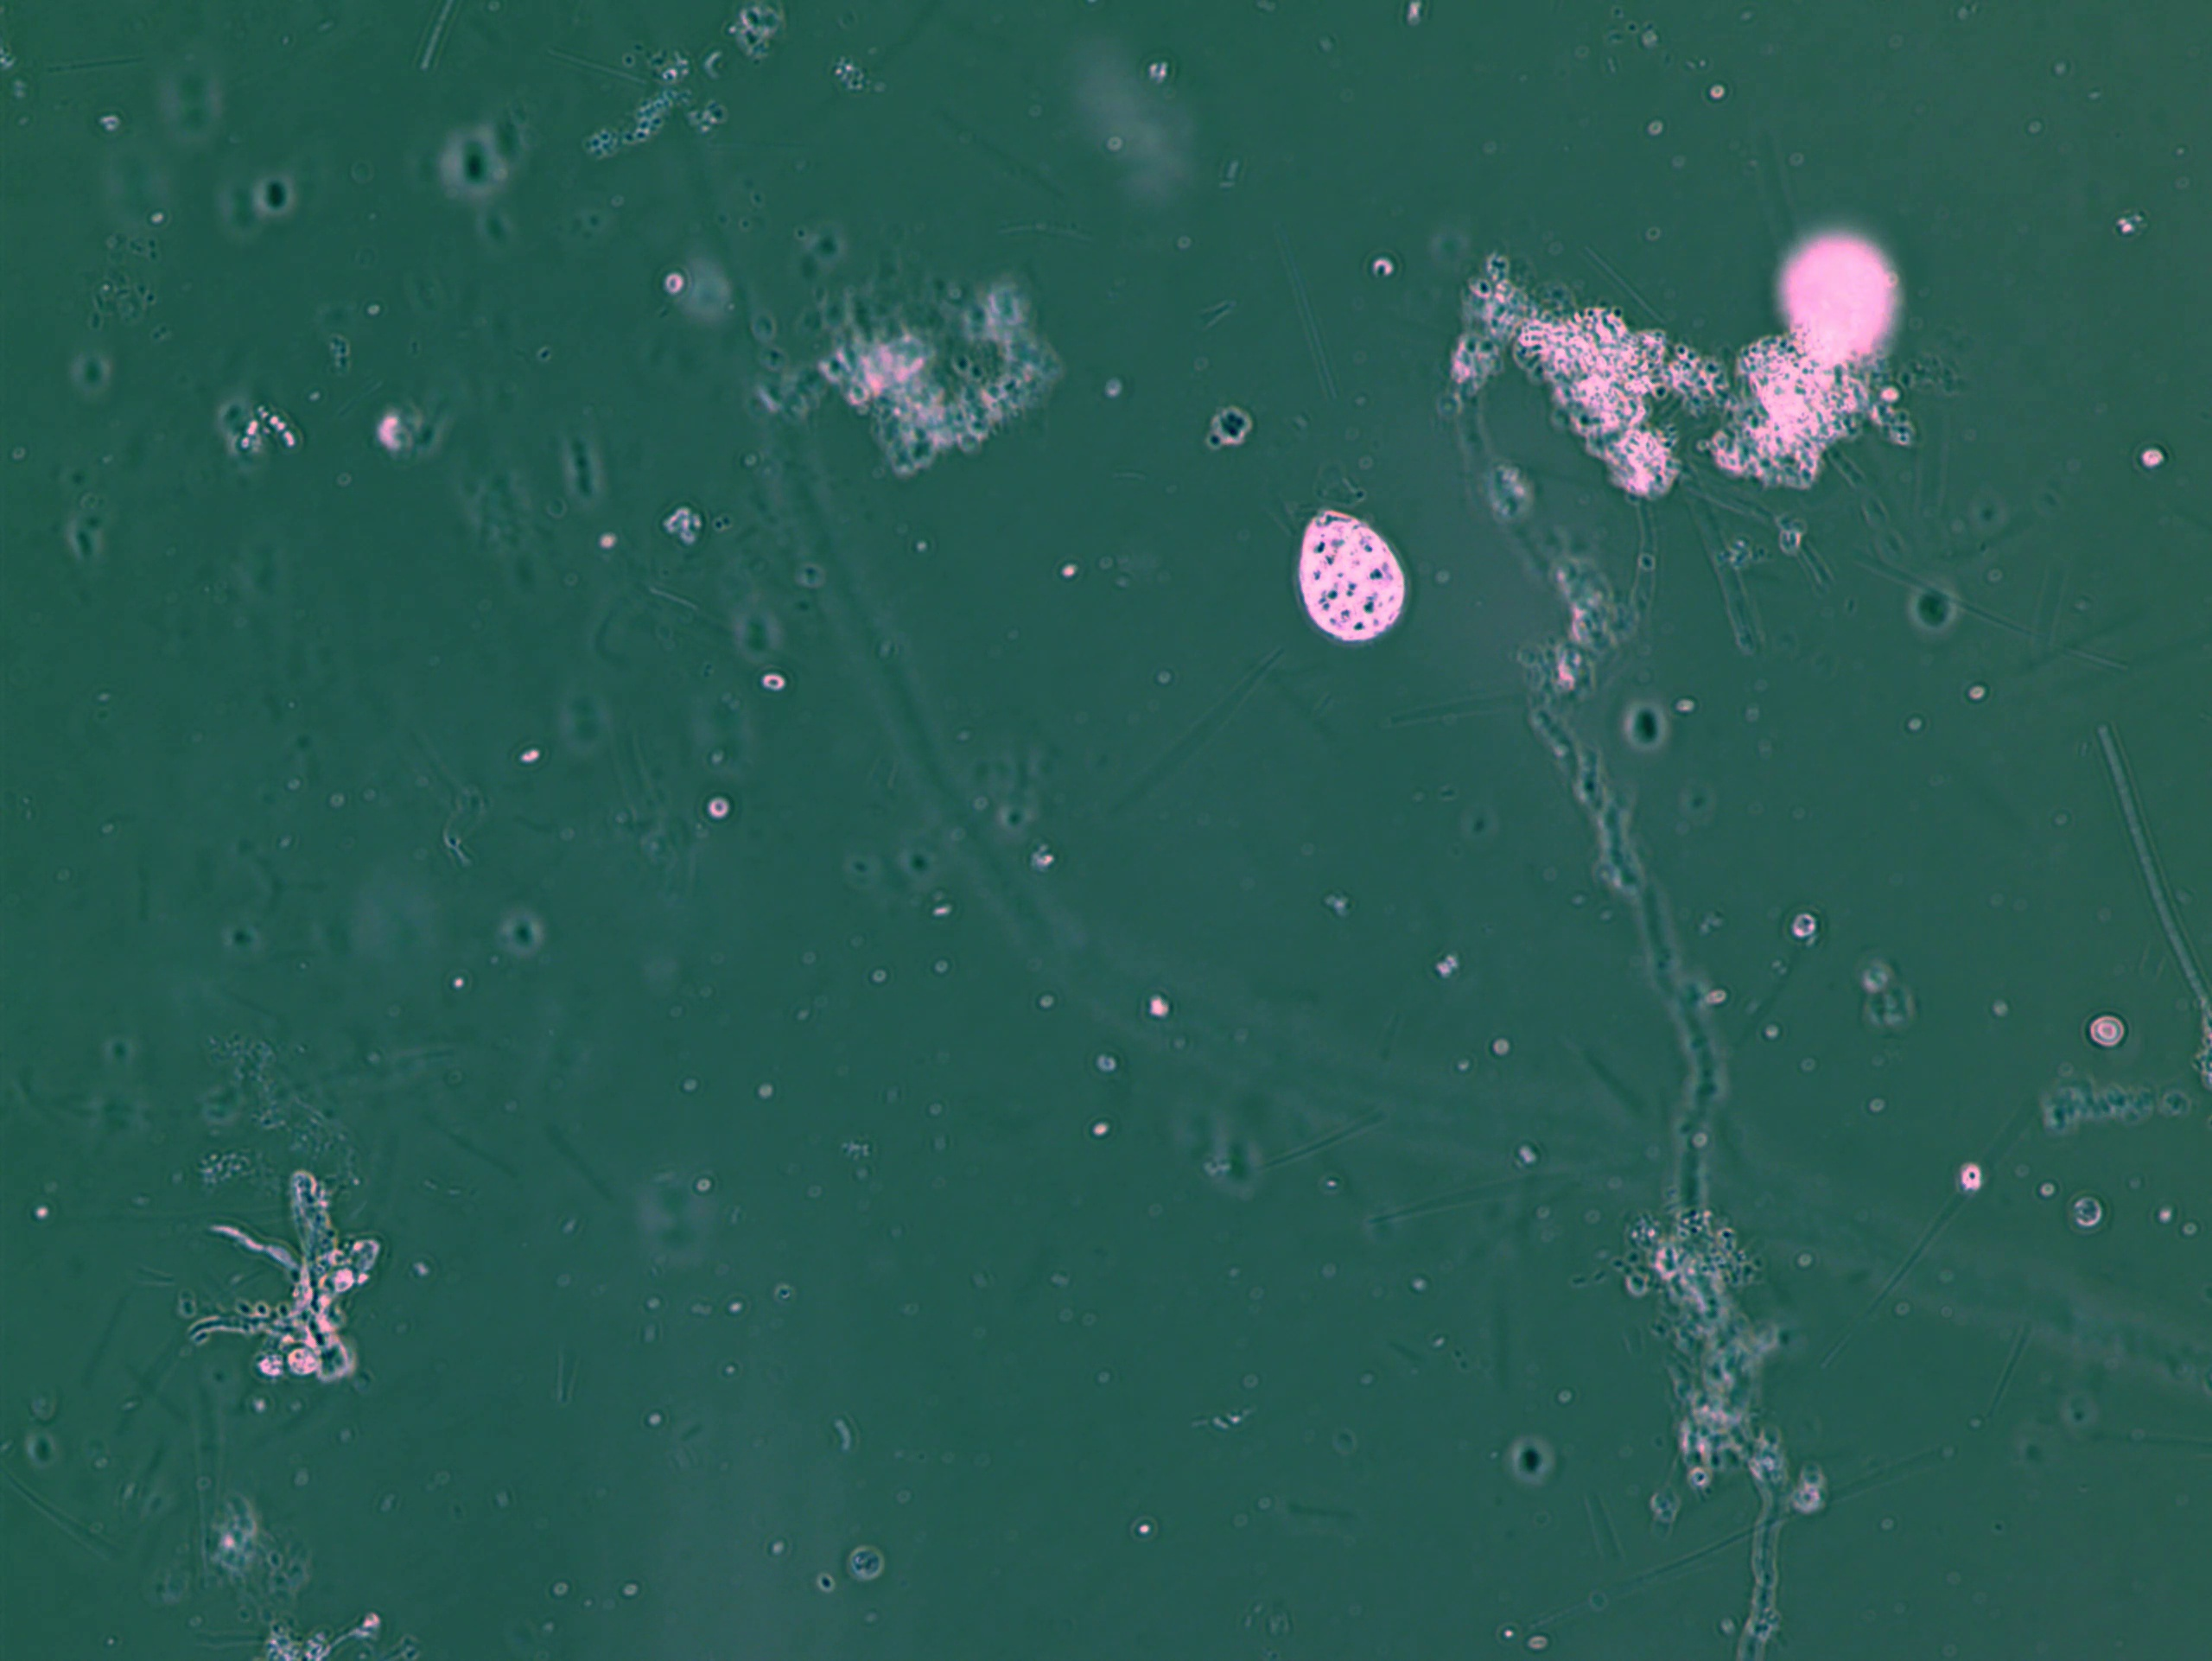depth:0: (1275, 487, 1441, 670)
